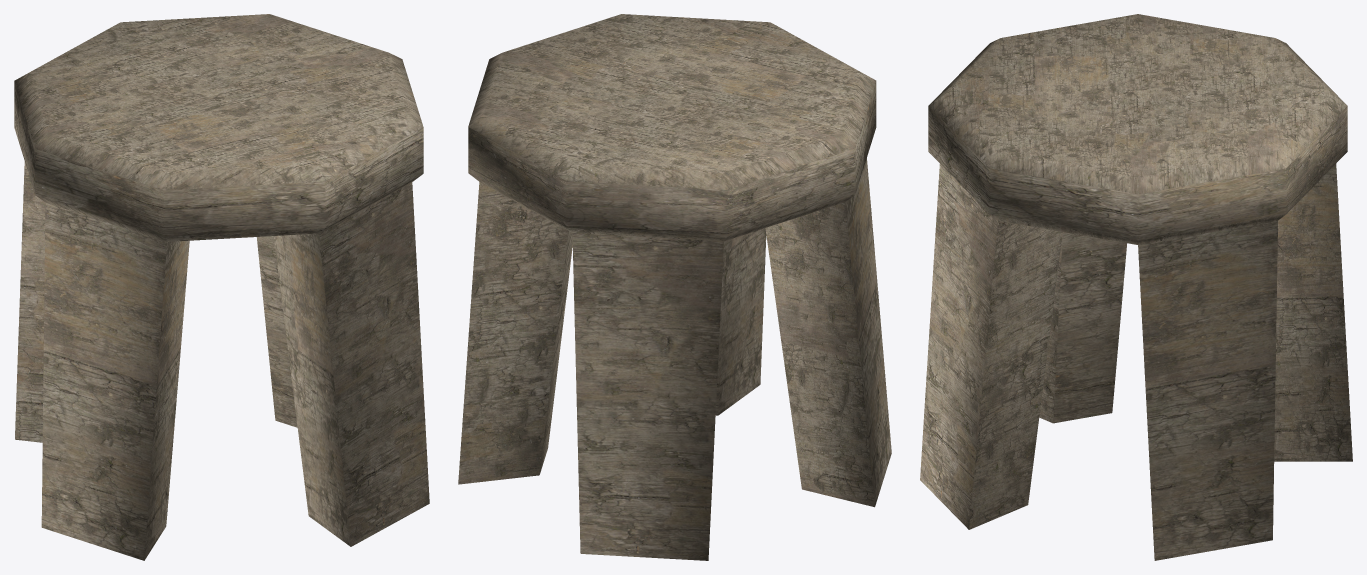
The model's file is banco.obj.
3 views of the same model, side by side, from view 1: azimuth 30°, elevation 25°; view 2: azimuth 150°, elevation 25°; view 3: azimuth 270°, elevation 25° (orthographic).
Bounding box in the file's own units: 1.01 × 0.9554 × 1.
1 material, 1 textured.
